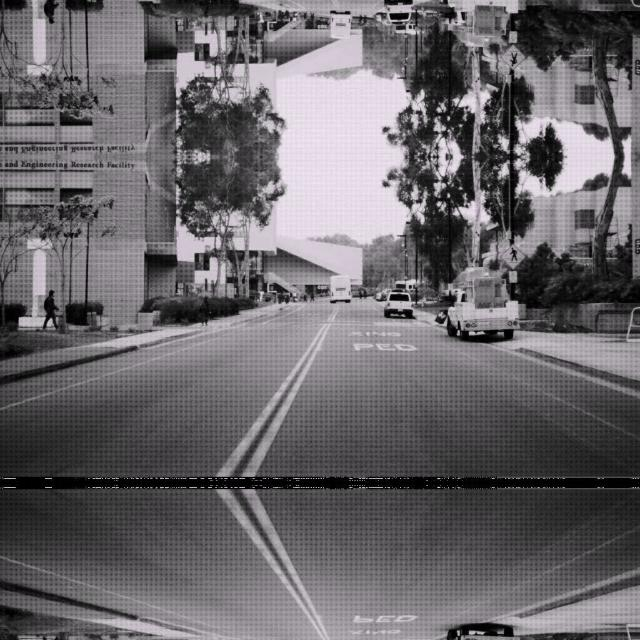pedestrianCrossing: (499, 242, 525, 268), (499, 44, 525, 70)
